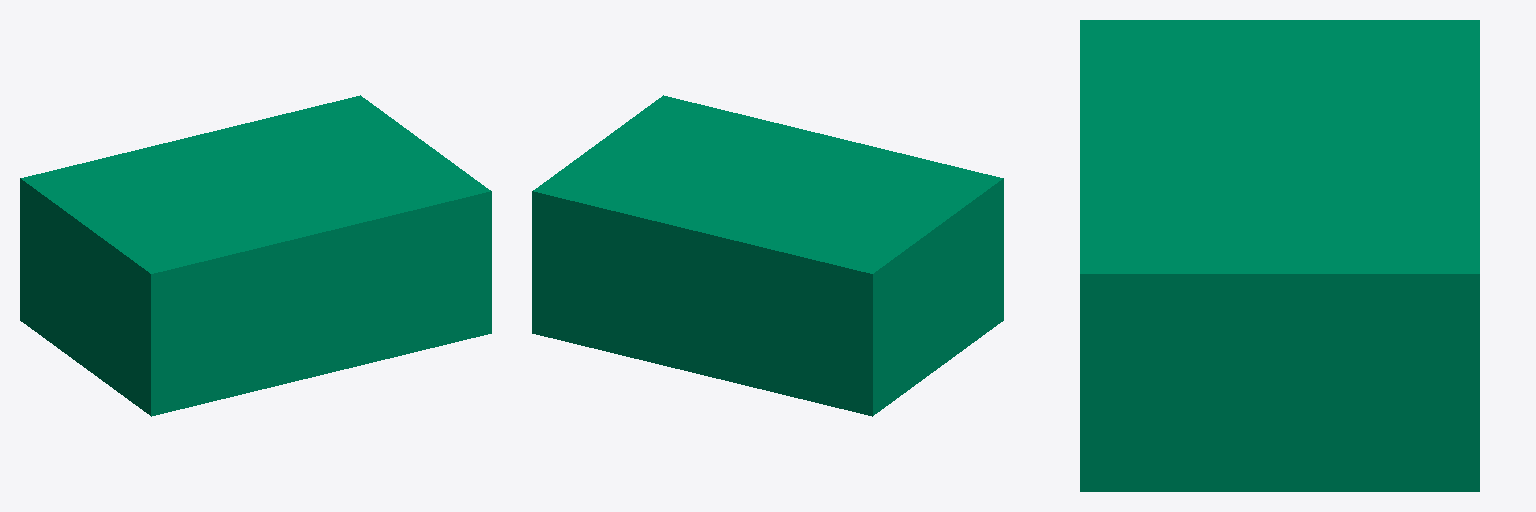
URDF robot description (wheelchair):
<?xml version="1.0" ?>
<!-- =================================================================================== -->
<!-- |    This document was autogenerated by xacro from urdf/wheelchair_gazebo.xacro   | -->
<!-- |    EDITING THIS FILE BY HAND IS NOT RECOMMENDED                                 | -->
<!-- =================================================================================== -->
<robot name="wheelchair" xmlns:xacro="http://www.ros.org/wiki/xacro">
  <link name="base_footprint">
    <origin rpy="0 0 0" xyz="0 0 .1"/>
  </link>
  <joint name="base_footprint_joint" type="fixed">
    <origin rpy="0 0 0" xyz=" 0 0 .7"/>
    <parent link="base_footprint"/>
    <child link="base_link"/>
  </joint>
  <link name="base_link">
    <visual>
      <origin rpy="0 0 -1.571" xyz="0 0 -.59"/>
      <geometry>
        <mesh filename="package://wheelchair_description/meshes/Wheel_Chair.dae" scale="0.20 0.20 0.20"/>
      </geometry>
      <material name="white">
        <color rgba="1 1 0 1"/>
      </material>
    </visual>
    <collision>
      <origin rpy="0 0 -1.571" xyz="0 0 -.59"/>
      <geometry>
        <mesh filename="package://wheelchair_description/meshes/Wheel_Chair.dae" scale="0.20 0.20 0.20"/>
      </geometry>
    </collision>
    <inertial>
      <origin rpy="0 0 -1.571" xyz="0 0 -.59"/>
      <mass value="10.0"/>
      <inertia ixx="1.66916666667" ixy="0" ixz="0" iyy="1.2125" iyz="0" izz="1.52833333333"/>
    </inertial>
  </link>
  <link name="imu_link">
    <inertial>
      <mass value="0.01"/>
      <origin xyz="0 0 0"/>
      <inertia ixx="1.0E-6" ixy="0" ixz="0" iyy="1.0E-6" iyz="0" izz="1.0E-6"/>
    </inertial>
    <visual>
      <origin rpy="0 0 0" xyz="0 0 0"/>
      <geometry>
        <box size="0.15 0.1 0.06"/>
      </geometry>
    </visual>
  </link>
  <joint name="imu_joint" type="fixed">
    <parent link="base_link"/>
    <child link="imu_link"/>
    <origin rpy="3.14159265359 0 0" xyz=".32 0 -.35"/>
  </joint>
  <!--Legs -->
  <link name="legs">
    <inertial>
      <mass value="2.0"/>
      <inertia ixx="0.135466666667" ixy="0" ixz="0" iyy="0.135466666667" iyz="0" izz="0.135466666667"/>
    </inertial>
  </link>
  <joint name="legs_joint" type="fixed">
    <axis xyz="0 0 0"/>
    <parent link="base_link"/>
    <child link="legs"/>
    <origin rpy="0 0 0" xyz="0.6092 0 -0.3923"/>
    <!--chair_height/4 + chair_height/8 because this is relative to the center of the bar -->
  </joint>
  <!--Right Bar -->
  <link name="right_bar">
    <inertial>
      <mass value="2.0"/>
      <inertia ixx="1e-3" ixy="1e-3" ixz="1e-3" iyy="1e-3" iyz="1e-3" izz="1e-3"/>
    </inertial>
  </link>
  <joint name="right_bar_joint" type="fixed">
    <axis xyz="0 0 0"/>
    <parent link="base_link"/>
    <child link="right_bar"/>
    <origin rpy="0 0 0" xyz="0.0 0.4215 -0.446625"/>
    <!--chair_height/4 + chair_height/8 because this is relative to the center of the bar -->
  </joint>
  <!--Left Bar -->
  <link name="left_bar">
    <inertial>
      <mass value="2.0"/>
      <inertia ixx="1e-3" ixy="1e-3" ixz="1e-3" iyy="1e-3" iyz="1e-3" izz="1e-3"/>
    </inertial>
  </link>
  <joint name="left_bar_joint" type="fixed">
    <axis xyz="0 0 0"/>
    <parent link="base_link"/>
    <child link="left_bar"/>
    <origin rpy="0 0 0" xyz="0.0 -0.4215 -0.446625"/>
    <!--chair_height/4 + chair_height/8 because this is relative to the center of the bar -->
  </joint>
  <!--Main Wheels -->
  <joint name="right_main_wheel_joint" type="continuous">
    <axis xyz="0 0 -1"/>
    <parent link="right_bar"/>
    <child link="right_main_wheel"/>
    <origin rpy="1.57075 0 0" xyz="0.0 0.0 -0.072875"/>
  </joint>
  <link name="right_main_wheel">
    <collision>
      <geometry>
        <cylinder length="0.065" radius="0.165"/>
      </geometry>
    </collision>
    <inertial>
      <mass value="2.0"/>
      <inertia ixx="0.0143166666667" ixy="0" ixz="0" iyy="0.0143166666667" iyz="0" izz="0.027225"/>
    </inertial>
  </link>
  <joint name="left_main_wheel_joint" type="continuous">
    <axis xyz="0 0 -1"/>
    <parent link="left_bar"/>
    <child link="left_main_wheel"/>
    <origin rpy="1.57075 0 0" xyz="0.0 0.0 -0.072875"/>
  </joint>
  <link name="left_main_wheel">
    <collision>
      <geometry>
        <cylinder length="0.065" radius="0.165"/>
      </geometry>
    </collision>
    <inertial>
      <mass value="2.0"/>
      <inertia ixx="0.0143166666667" ixy="0" ixz="0" iyy="0.0143166666667" iyz="0" izz="0.027225"/>
    </inertial>
  </link>
  <!--Laser Scanners -->
  <link name="right_scanner">
    <inertial>
      <mass value="1e-5"/>
      <inertia ixx="1e-3" ixy="0" ixz="0" iyy="1e-3" iyz="0" izz="1e-3"/>
    </inertial>
  </link>
  <joint name="right_scanner_joint" type="fixed">
    <axis xyz="0 0 0"/>
    <origin rpy="0 0 1.5707" xyz="0.4575 0.0 0.1244375"/>
    <parent link="right_bar"/>
    <child link="right_scanner"/>
  </joint>
  <link name="left_scanner">
    <inertial>
      <mass value="1e-5"/>
      <inertia ixx="1e-3" ixy="0" ixz="0" iyy="1e-3" iyz="0" izz="1e-3"/>
    </inertial>
  </link>
  <joint name="left_scanner_joint" type="fixed">
    <axis xyz="0 0 0"/>
    <origin rpy="0 0 -1.5707" xyz="0.4575 -0.0 0.1244375"/>
    <parent link="left_bar"/>
    <child link="left_scanner"/>
  </joint>
  <!--Front Wheels -->
  <link name="front_right_swivel">
    <collision>
      <geometry>
        <cylinder length="0.065" radius="0.01"/>
      </geometry>
    </collision>
    <inertial>
      <mass value=".1"/>
      <inertia ixx="3.77083333333e-05" ixy="0" ixz="0" iyy="3.77083333333e-05" iyz="0" izz="5e-06"/>
    </inertial>
  </link>
  <joint name="front_right_swivel_joint" type="continuous">
    <axis xyz="0 0 1"/>
    <parent link="right_bar"/>
    <child link="front_right_swivel"/>
    <origin rpy="0 0 0" xyz="-0.446 0.0725 -0.148875"/>
    <dynamics damping="0.0" friction="0.5"/>
  </joint>
  <joint name="front_right_wheel_joint" type="continuous">
    <axis xyz="0 0 1"/>
    <parent link="front_right_swivel"/>
    <child link="front_right_wheel"/>
    <origin rpy="1.57075 0 0" xyz="0.065 0 0"/>
    <dynamics damping="0.0" friction="0.5"/>
  </joint>
  <link name="front_right_wheel">
    <collision>
      <geometry>
        <cylinder length="0.05" radius="0.089"/>
      </geometry>
      <surface>
        <friction>
          <ode>
            <mu>1.0</mu>
            <mu2>1.0</mu2>
          </ode>
        </friction>
      </surface>
    </collision>
    <inertial>
      <mass value="1.0"/>
      <inertia ixx="0.00218858333333" ixy="0" ixz="0" iyy="0.00218858333333" iyz="0" izz="0.0039605"/>
    </inertial>
  </link>
  <link name="front_left_swivel">
    <collision>
      <geometry>
        <cylinder length="0.065" radius="0.01"/>
      </geometry>
    </collision>
    <inertial>
      <mass value=".1"/>
      <inertia ixx="3.77083333333e-05" ixy="0" ixz="0" iyy="3.77083333333e-05" iyz="0" izz="5e-06"/>
    </inertial>
  </link>
  <joint name="front_left_swivel_joint" type="continuous">
    <axis xyz="0 0 1"/>
    <parent link="left_bar"/>
    <child link="front_left_swivel"/>
    <origin rpy="0 0 0" xyz="-0.446 -0.0725 -0.148875"/>
    <dynamics damping="0.0" friction="0.5"/>
  </joint>
  <joint name="front_left_wheel_joint" type="continuous">
    <axis xyz="0 0 1"/>
    <parent link="front_left_swivel"/>
    <child link="front_left_wheel"/>
    <origin rpy="1.57075 0 0" xyz="0.065 0 0"/>
    <dynamics damping="0" friction="0.5"/>
  </joint>
  <link name="front_left_wheel">
    <collision>
      <geometry>
        <cylinder length="0.05" radius="0.089"/>
      </geometry>
      <surface>
        <friction>
          <ode>
            <mu>1.0</mu>
            <mu2>1.0</mu2>
          </ode>
        </friction>
      </surface>
    </collision>
    <inertial>
      <mass value="1.0"/>
      <inertia ixx="0.00218858333333" ixy="0" ixz="0" iyy="0.00218858333333" iyz="0" izz="0.0039605"/>
    </inertial>
  </link>
  <!--Rear Wheels -->
  <link name="rear_right_swivel">
    <collision>
      <geometry>
        <cylinder length="0.065" radius="0.01"/>
      </geometry>
    </collision>
    <inertial>
      <mass value=".1"/>
      <inertia ixx="3.77083333333e-05" ixy="0" ixz="0" iyy="3.77083333333e-05" iyz="0" izz="5e-06"/>
    </inertial>
  </link>
  <joint name="rear_right_swivel_joint" type="continuous">
    <axis xyz="0 0 1"/>
    <parent link="right_bar"/>
    <child link="rear_right_swivel"/>
    <origin rpy="0 0 0" xyz="0.366 0.035 -0.148875"/>
    <dynamics damping="0.0" friction="0.5"/>
  </joint>
  <joint name="rear_right_wheel_joint" type="continuous">
    <axis xyz="0 0 1"/>
    <parent link="rear_right_swivel"/>
    <child link="rear_right_wheel"/>
    <origin rpy="1.57075 0 0" xyz="0.065 0 0"/>
    <dynamics damping="0" friction="0.5"/>
  </joint>
  <link name="rear_right_wheel">
    <collision>
      <geometry>
        <cylinder length="0.05" radius="0.089"/>
      </geometry>
      <surface>
        <friction>
          <ode>
            <mu>1.0</mu>
            <mu2>1.0</mu2>
          </ode>
        </friction>
      </surface>
    </collision>
    <inertial>
      <mass value="1.0"/>
      <inertia ixx="0.00218858333333" ixy="0" ixz="0" iyy="0.00218858333333" iyz="0" izz="0.0039605"/>
    </inertial>
  </link>
  <link name="rear_left_swivel">
    <collision>
      <geometry>
        <cylinder length="0.065" radius="0.01"/>
      </geometry>
    </collision>
    <inertial>
      <mass value=".1"/>
      <inertia ixx="3.77083333333e-05" ixy="0" ixz="0" iyy="3.77083333333e-05" iyz="0" izz="5e-06"/>
    </inertial>
  </link>
  <joint name="rear_left_swivel_joint" type="continuous">
    <axis xyz="0 0 1"/>
    <parent link="left_bar"/>
    <child link="rear_left_swivel"/>
    <origin rpy="0 0 0" xyz="0.366 -0.035 -0.148875"/>
    <dynamics damping="0.0" friction="0.5"/>
  </joint>
  <joint name="rear_left_wheel_joint" type="continuous">
    <axis xyz="0 0 1"/>
    <parent link="rear_left_swivel"/>
    <child link="rear_left_wheel"/>
    <origin rpy="1.57075 0 0" xyz="0.065 0 0"/>
    <dynamics damping="0" friction="0.5"/>
  </joint>
  <link name="rear_left_wheel">
    <collision>
      <geometry>
        <cylinder length="0.05" radius="0.089"/>
      </geometry>
      <surface>
        <friction>
          <ode>
            <mu>1.0</mu>
            <mu2>1.0</mu2>
          </ode>
        </friction>
      </surface>
    </collision>
    <inertial>
      <mass value="1.0"/>
      <inertia ixx="0.00218858333333" ixy="0" ixz="0" iyy="0.00218858333333" iyz="0" izz="0.0039605"/>
    </inertial>
  </link>
  <gazebo>
    <plugin filename="libgazebo_ros_control.so" name="gazebo_ros_control">
      <robotNamespace>/</robotNamespace>
    </plugin>
  </gazebo>
  <gazebo reference="imu_link">
    <sensor name="imu_sensor" type="imu">
      <always_on>true</always_on>
      <update_rate>100</update_rate>
      <visualize>true</visualize>
      <topic>__default_topic__</topic>
    </sensor>
  </gazebo>
  <gazebo>
    <plugin filename="libgazebo_ros_diff_drive.so" name="differential_drive_controller">
      <alwaysOn>true</alwaysOn>
      <updateRate>50</updateRate>
      <leftJoint>left_main_wheel_joint</leftJoint>
      <rightJoint>right_main_wheel_joint</rightJoint>
      <wheelSeparation>0.643</wheelSeparation>
      <wheelDiameter>0.33</wheelDiameter>
      <wheelTorque>20</wheelTorque>
      <wheelAcceleration>1</wheelAcceleration>
      <commandTopic>cmd_vel</commandTopic>
      <odometryTopic>odom_temp</odometryTopic>
      <odometryFrame>odom_temp</odometryFrame>
      <robotBaseFrame>base_footprint</robotBaseFrame>
      <publishTf>0</publishTf>
    </plugin>
  </gazebo>
  <gazebo>
    <plugin filename="libhector_gazebo_ros_imu.so" name="quadrotor_imu_sim">
      <updateRate>50.0</updateRate>
      <bodyName>imu_link</bodyName>
      <frameId>imu_link</frameId>
      <topicName>imu/data</topicName>
      <rpyOffsets>0 0 0</rpyOffsets>
      <gaussianNoise>0</gaussianNoise>
      <accelDrift>0.5 0.5 0.5</accelDrift>
      <accelGaussianNoise>0.05 0.05 0.05</accelGaussianNoise>
      <rateDrift>0.1 0.1 0.1</rateDrift>
      <rateGaussianNoise>0.05 0.05 0.015</rateGaussianNoise>
      <headingDrift>0.1</headingDrift>
      <headingGaussianNoise>0.05</headingGaussianNoise>
    </plugin>
  </gazebo>
  <gazebo reference="right_scanner">
    <sensor name="head_hokuyo_sensor" type="ray">
      <pose>0 0 0 0 0 0</pose>
      <visualize>true</visualize>
      <update_rate>40</update_rate>
      <ray>
        <scan>
          <horizontal>
            <samples>720</samples>
            <resolution>1</resolution>
            <min_angle>-2.3561925</min_angle>
            <max_angle>1.57079</max_angle>
          </horizontal>
        </scan>
        <range>
          <min>0.2</min>
          <max>10.1</max>
          <resolution>0.01</resolution>
        </range>
        <noise>
          <type>gaussian</type>
          <mean>0.0</mean>
          <stddev>0.02</stddev>
        </noise>
      </ray>
      <plugin filename="libgazebo_ros_laser.so" name="gazebo_ros_head_hokuyo_controller">
        <topicName>/wheelchair_lasers/right</topicName>
        <frameName>right_scanner</frameName>
      </plugin>
    </sensor>
  </gazebo>
  <gazebo reference="left_scanner">
    <sensor name="head_hokuyo_sensor2" type="ray">
      <pose>0 0 0 0 0 0</pose>
      <visualize>true</visualize>
      <update_rate>40</update_rate>
      <ray>
        <scan>
          <horizontal>
            <samples>720</samples>
            <resolution>1</resolution>
            <min_angle>-1.57079</min_angle>
            <max_angle>2.3561925</max_angle>
          </horizontal>
        </scan>
        <range>
          <min>0.2</min>
          <max>10.1</max>
          <resolution>0.01</resolution>
        </range>
        <noise>
          <type>gaussian</type>
          <mean>0.0</mean>
          <stddev>0.02</stddev>
        </noise>
      </ray>
      <plugin filename="libgazebo_ros_laser.so" name="gazebo_ros_head_hokuyo_controller2">
        <topicName>/wheelchair_lasers/left</topicName>
        <frameName>left_scanner</frameName>
      </plugin>
    </sensor>
  </gazebo>
</robot>

--- Facts derived from the render (not from the file) ---
The picture shows the robot from 3 angles, left to right: view 1: azimuth 30°, elevation 25°; view 2: azimuth 150°, elevation 25°; view 3: azimuth 270°, elevation 25°; orthographic projection.
Robot: wheelchair — 18 links, 17 joints (10 continuous, 7 fixed); root link base_footprint; default pose: every joint at zero.
Links seen in each view (by area): view 1: imu_link; view 2: imu_link; view 3: imu_link.
Boxes of the visible links, box(x1,y1,x2,y2) form: imu_link: box(20, 95, 491, 416); imu_link: box(532, 95, 1003, 416); imu_link: box(1080, 20, 1479, 491).
Bounding box of the posed robot: 0.15 × 0.1 × 0.06 m (x, y, z).
Meshes: 1 distinct files referenced, 0 mesh visuals loaded (none loaded); not drawn: 1 (reference not matched to a file when rendering).
